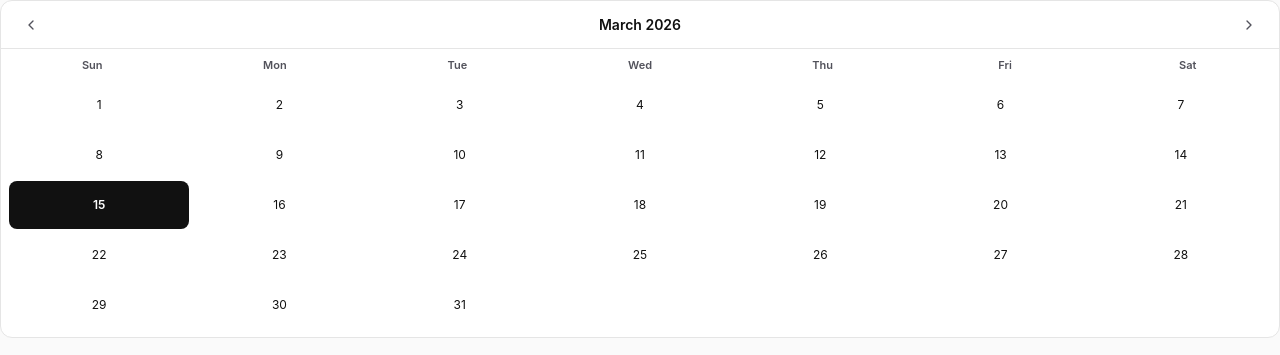
Test: MiniCalendar › navigates to next month
Click the button named "Next month". click: (1249, 24)
box: left=1235, top=10, right=1263, bottom=38
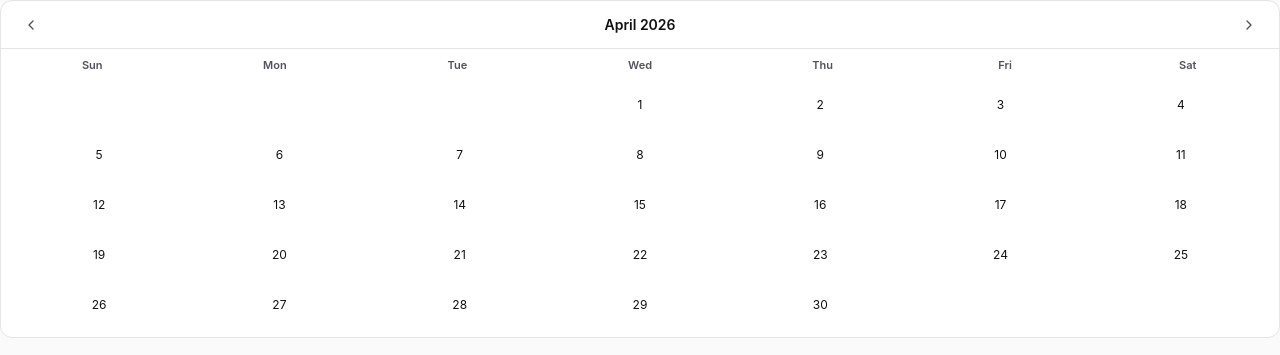
Result: the text "April 2026" is shown at left=604, top=14, right=676, bottom=35
